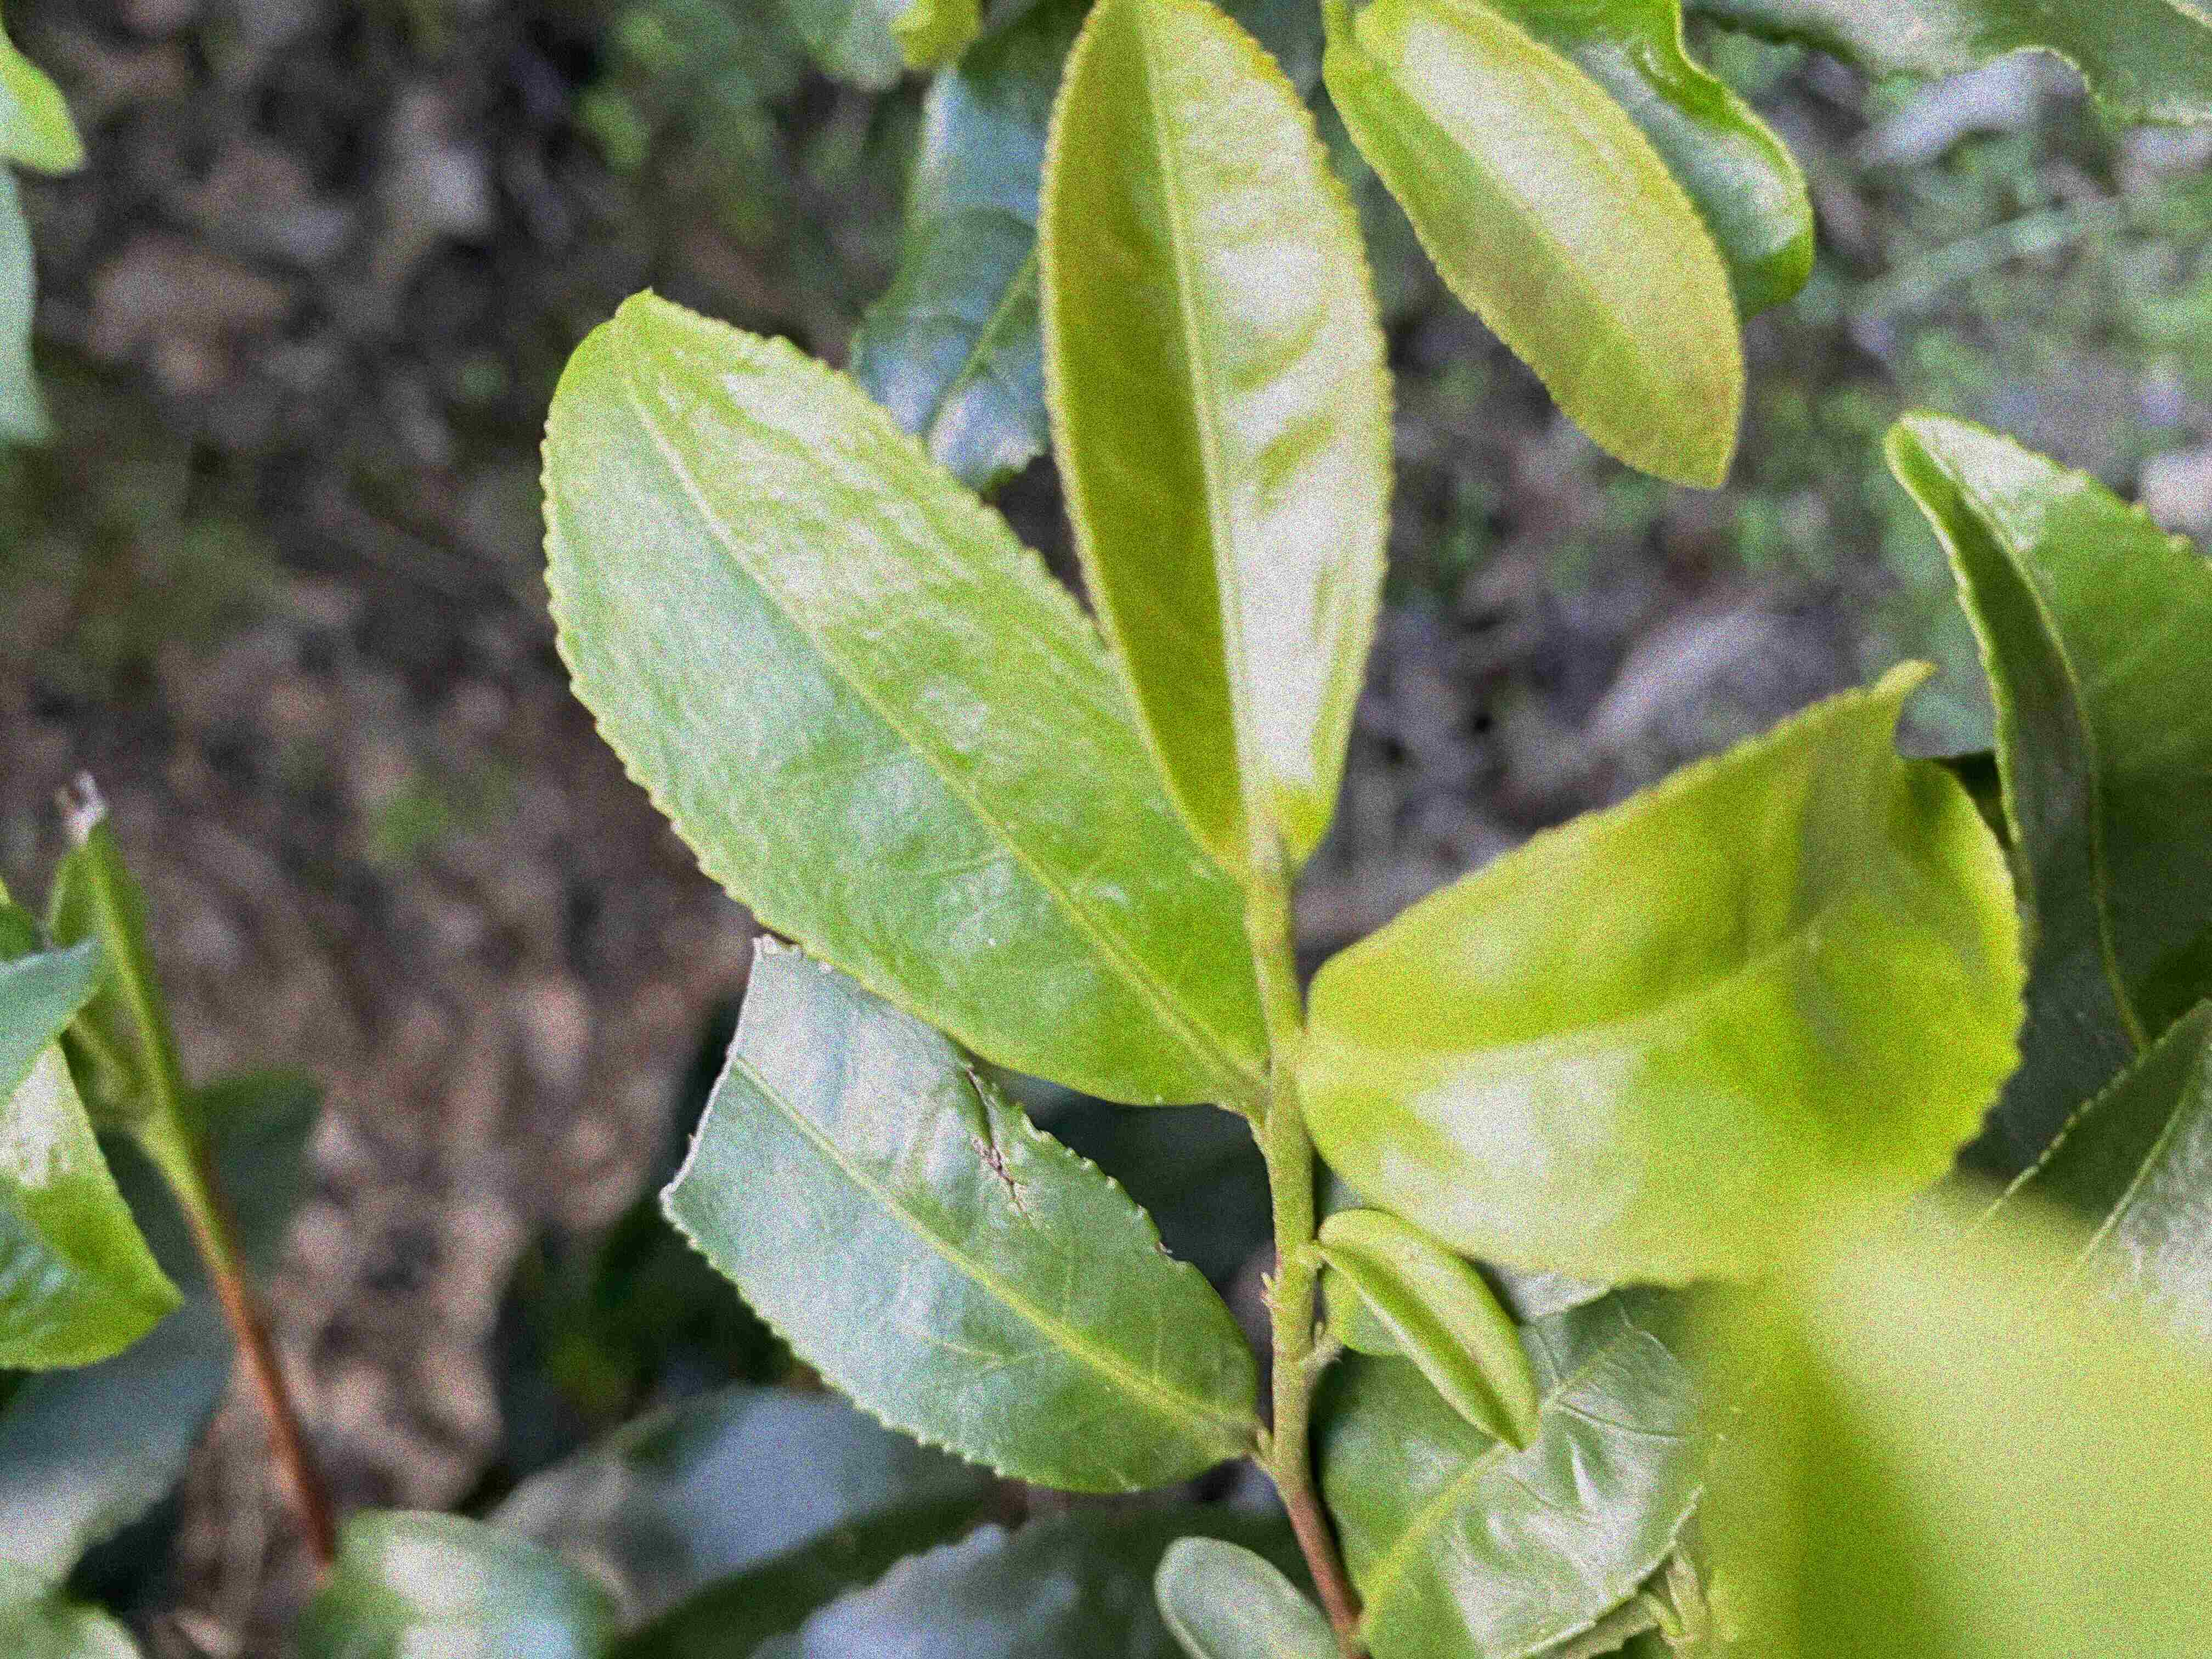chihuo_high: (655, 934, 1264, 1497)
healthy: (536, 282, 1270, 1110), (1031, 3, 1397, 882), (1322, 0, 1754, 493)
